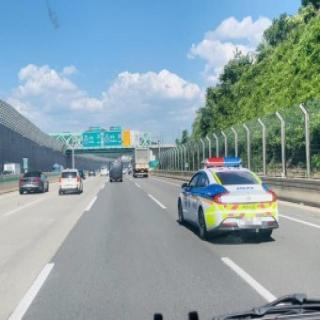Police_car: (177, 157, 280, 241)
